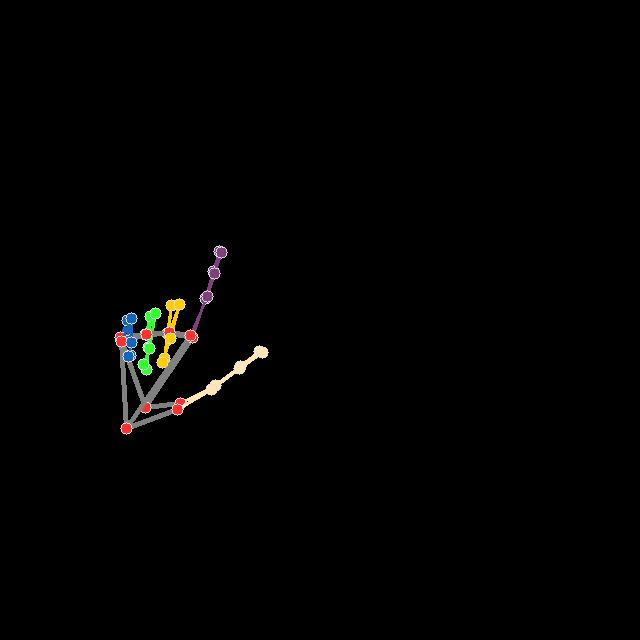gun: (111, 246, 274, 433)
